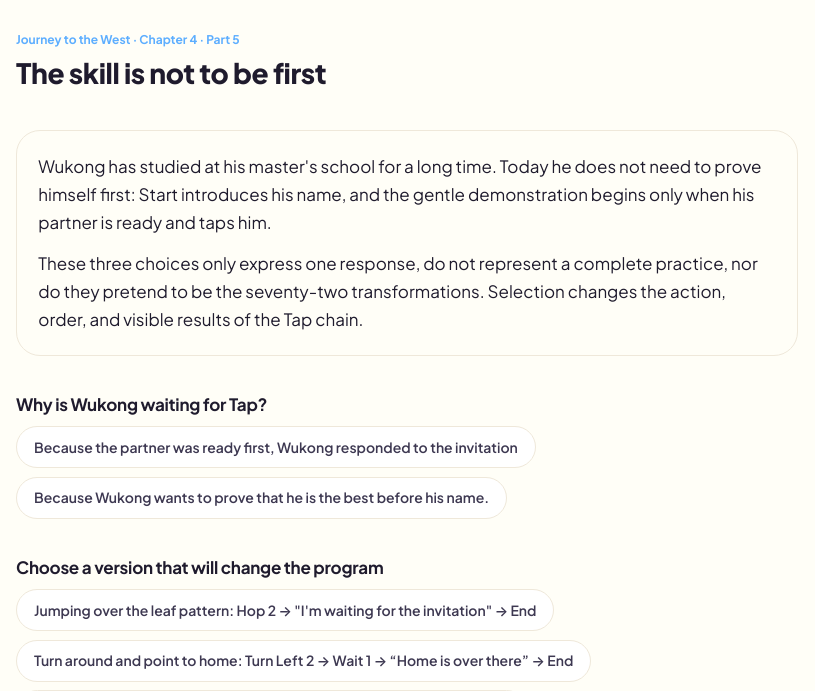
it: JourneyWestC4Part5Page › requires motive, matching version, prediction, and saved Go/Tap evidence
This screenshot has width=815, height=691.
Click the button "Because the partner was ready first, Wukong responded to the invitation": coordinates (276, 447) [16,426,536,468]
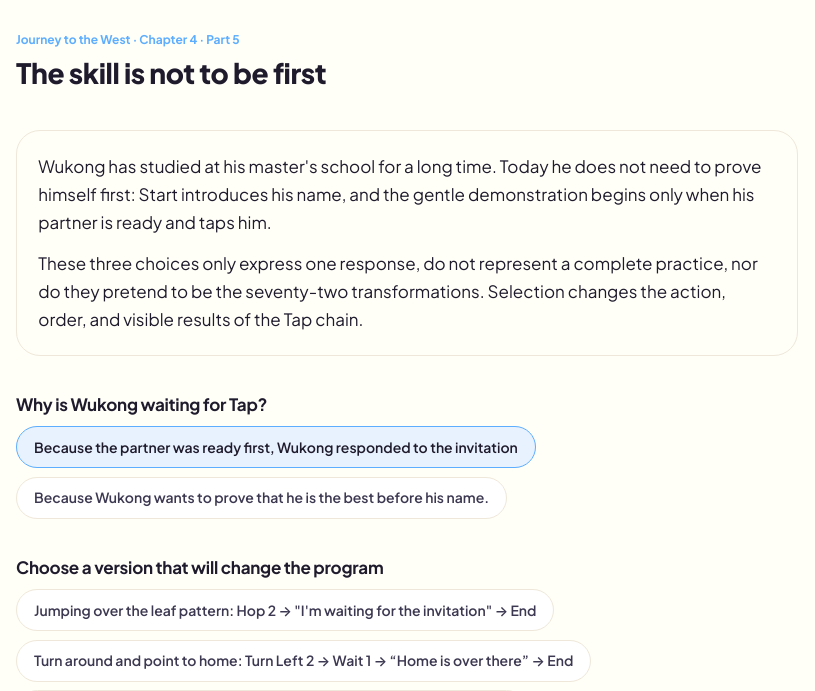
Click the button "Jumping over the leaf pattern": coordinates (285, 610) [16,589,554,631]
(page scrolled)
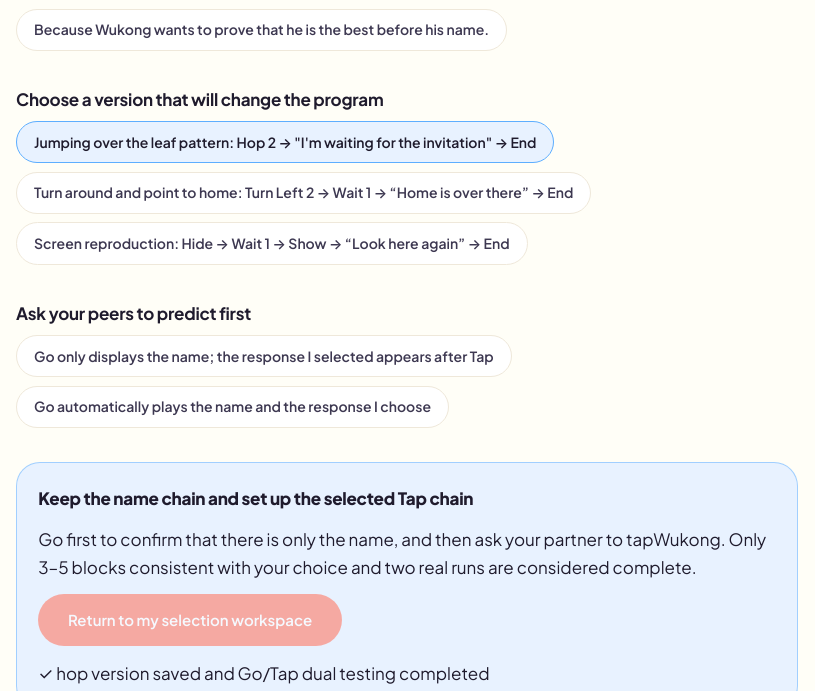
Click the button "Go only displays the name": coordinates (264, 356) [16,335,512,377]
(page scrolled)
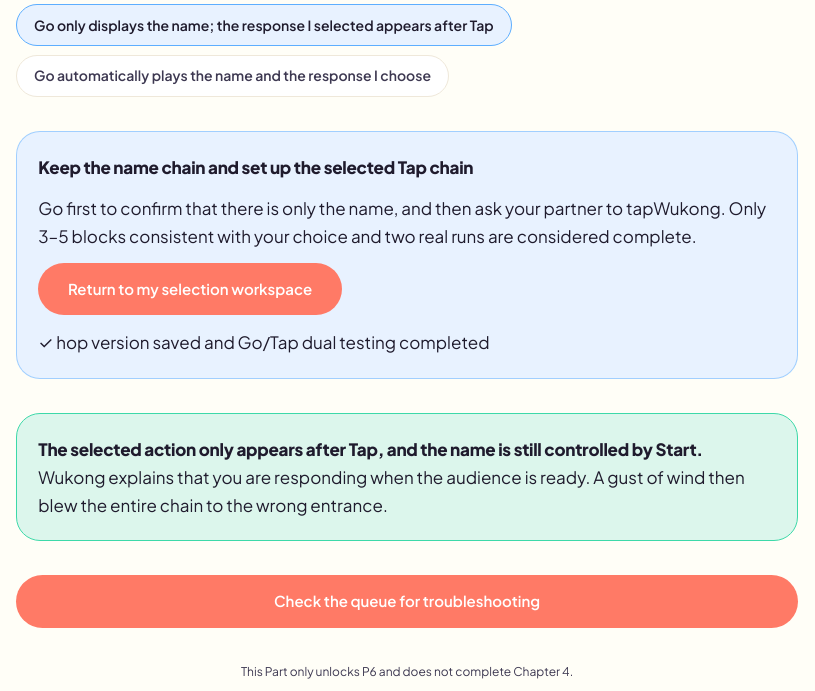
Expected: the text with test id "jtw-c4p5-build-status" shows "hop version saved and Go/Tap dual testing completed", [38,331,490,353]
Expected: the button with test id "jtw-c4p5-continue" is enabled, [16,575,798,628]
Expected: the element with test id "jtw-c4p5-resolved" shows "A gust of wind", [38,466,745,516]
